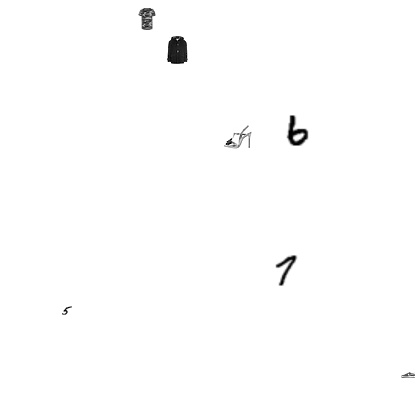5: (59, 303, 73, 317)
6: (275, 111, 317, 153)
7: (264, 245, 306, 287)
Coat: (163, 36, 191, 64)
Sandal: (224, 123, 252, 151)
Sneaker: (401, 368, 415, 382)
T-shirt/top: (136, 8, 158, 30)
